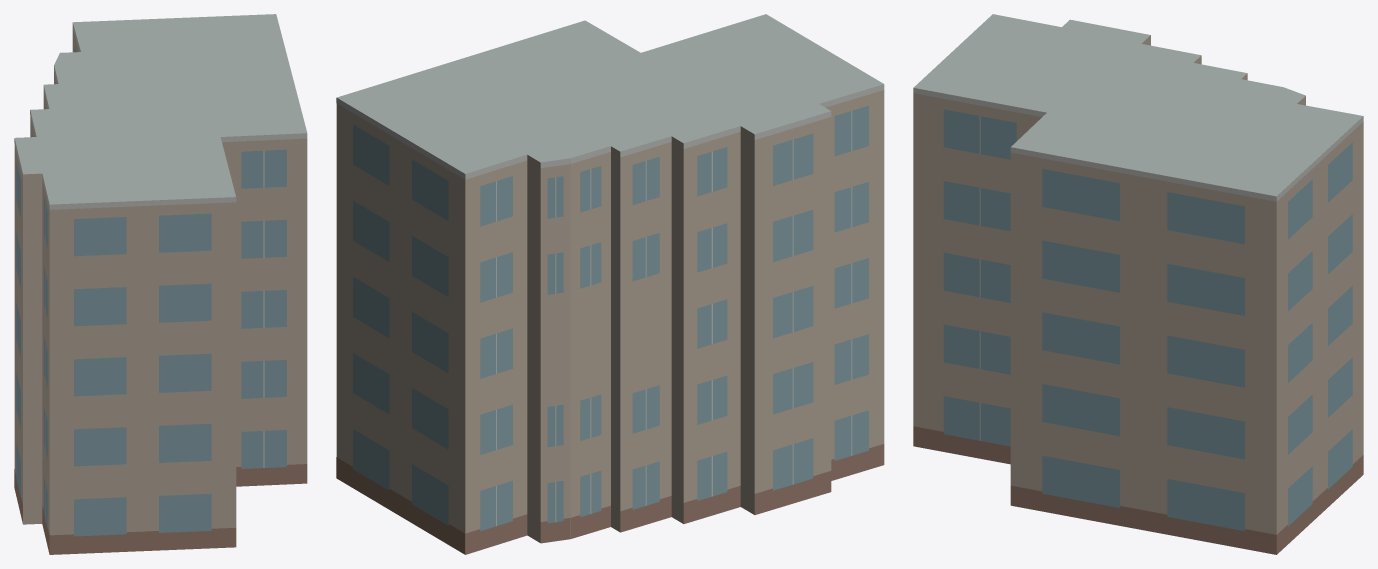
The model's file is survey-upis-32900752.glb.
The picture shows the model from 3 angles, left to right: view 1: azimuth 30°, elevation 25°; view 2: azimuth 150°, elevation 25°; view 3: azimuth 270°, elevation 25°; orthographic projection. The views are drawn at different scales.
Visible parts, largest first — view 1: survey-upis-32900752.tmp; view 2: survey-upis-32900752.tmp; view 3: survey-upis-32900752.tmp.
Boxes of the visible parts, box(x1,y1,x2,y2) form: survey-upis-32900752.tmp: box(14, 14, 307, 554); survey-upis-32900752.tmp: box(336, 14, 884, 554); survey-upis-32900752.tmp: box(913, 14, 1363, 554).
Bounding box in the file's own units: 17.69 × 16.2 × 18.45.
